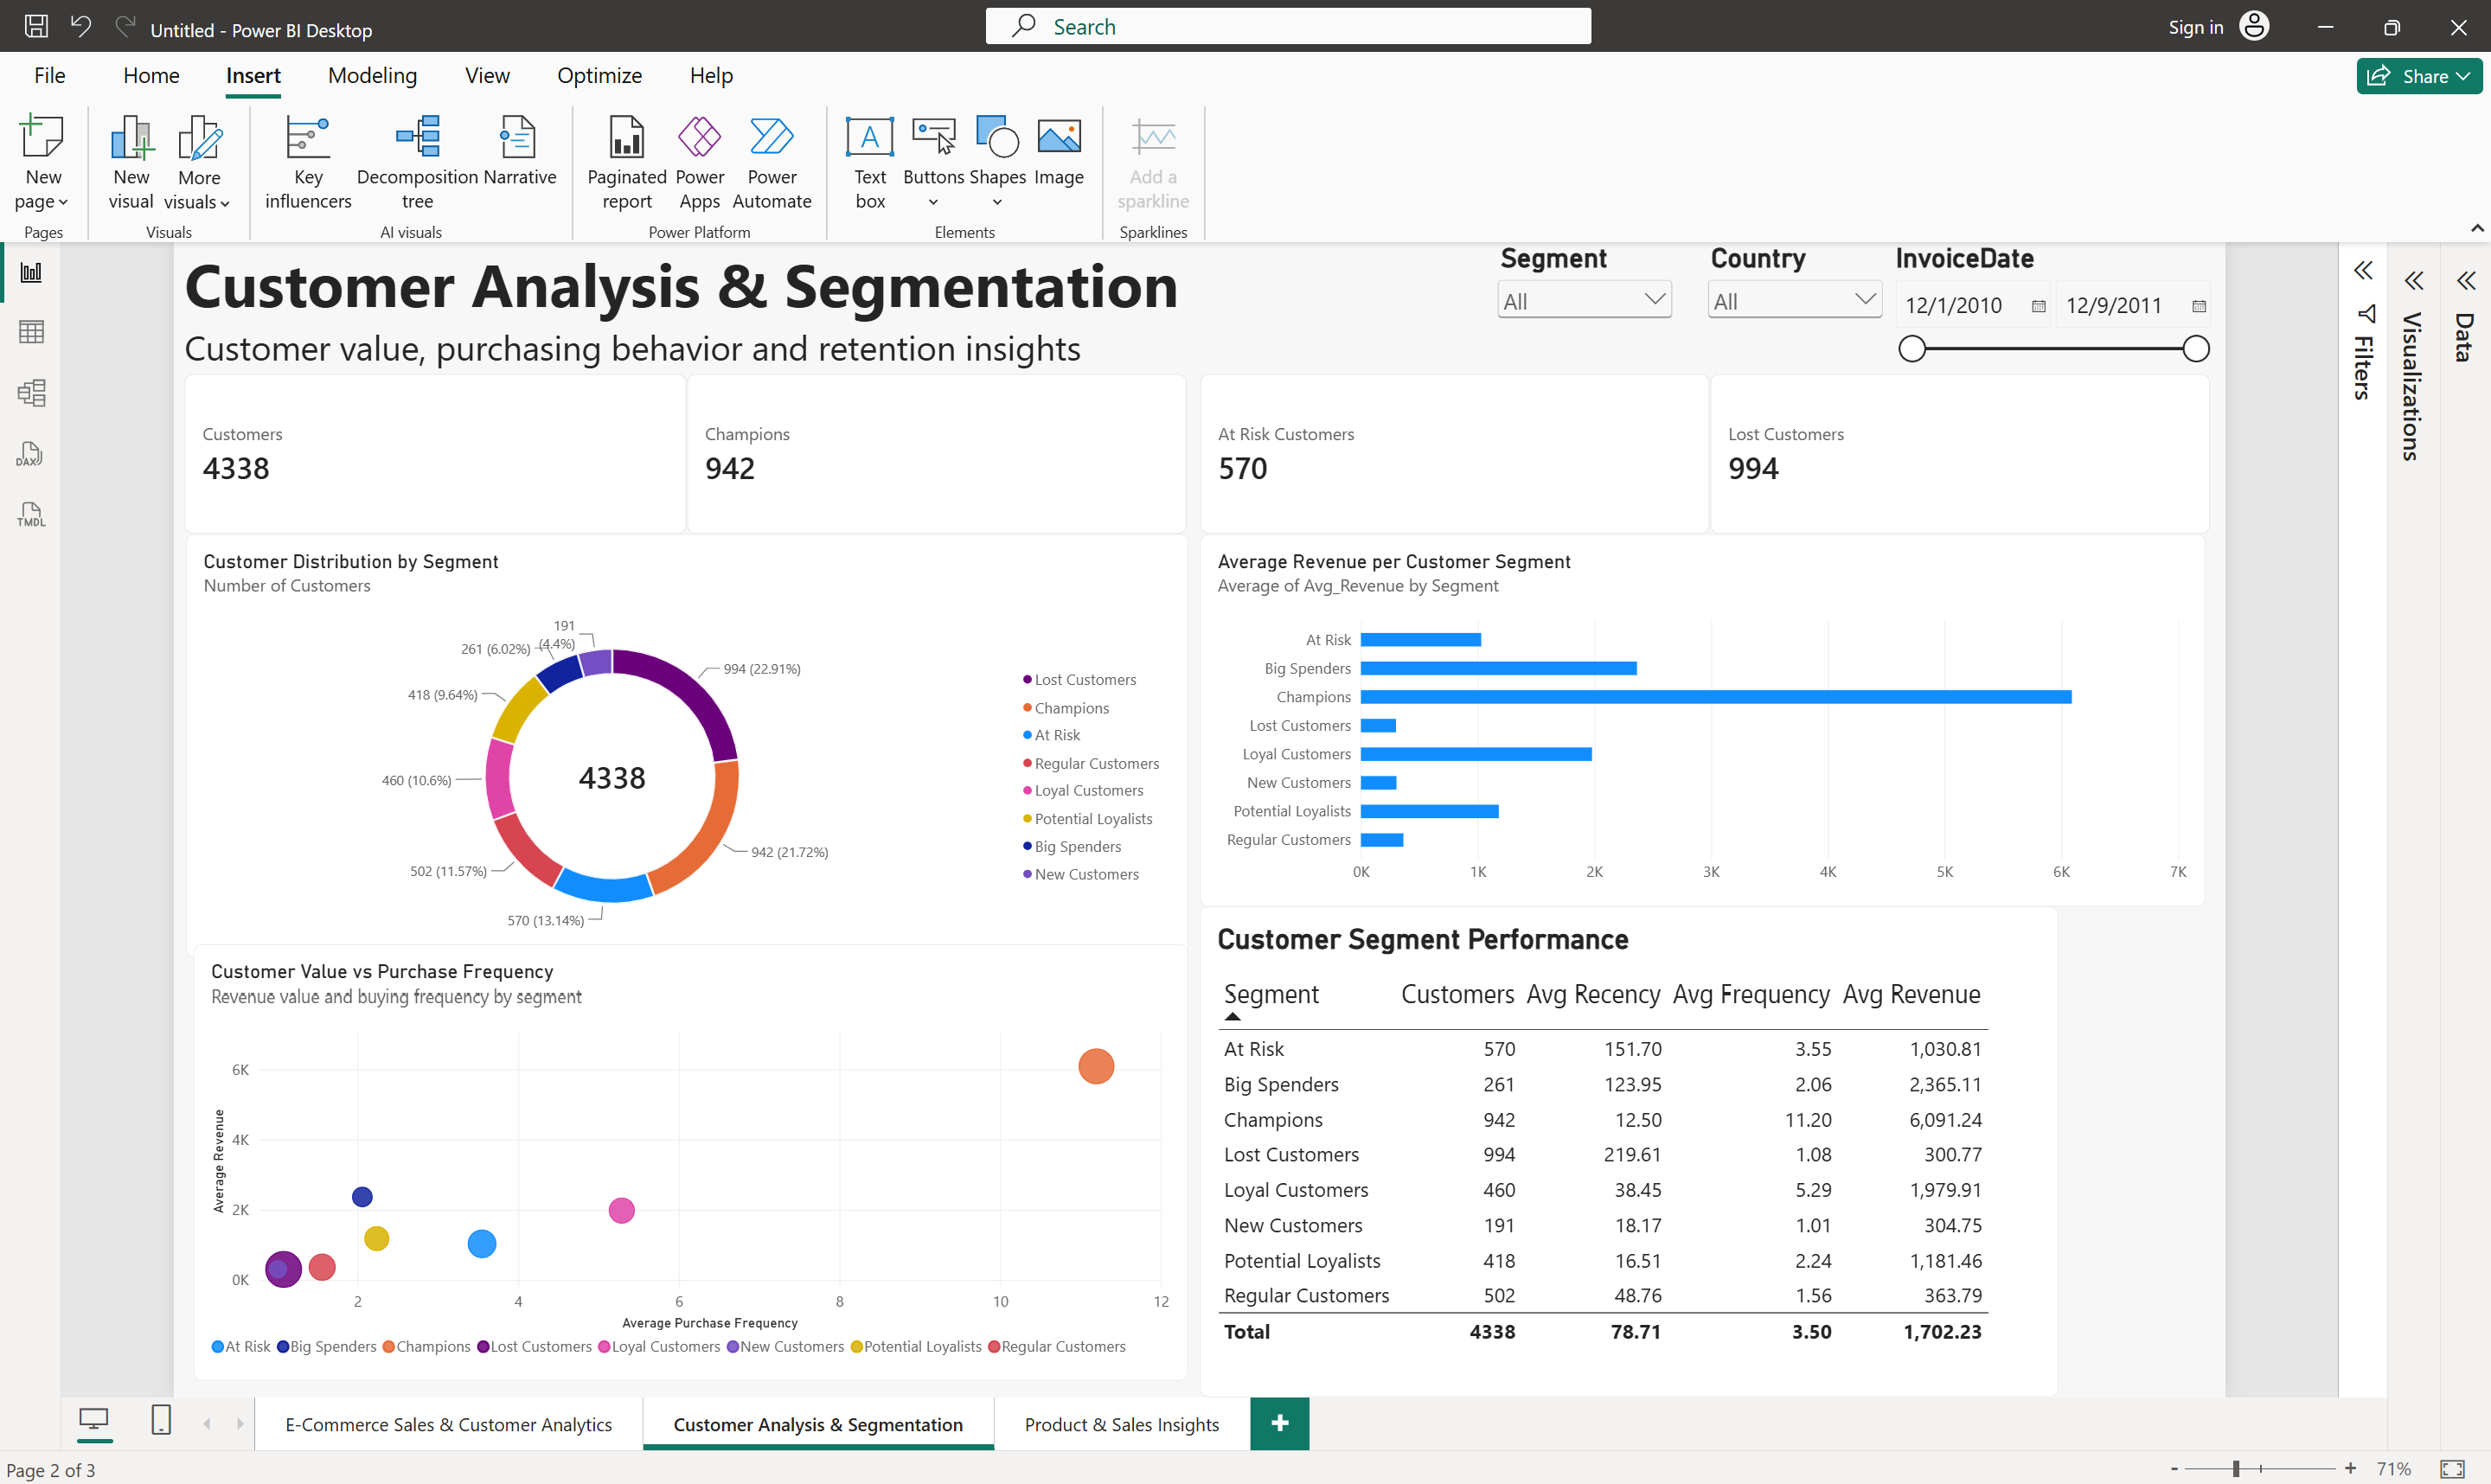

The page's visual inventory and layout, read from the dashboard file:
{"tool":"powerbi","page":{"name":"Customer Analysis & Segmentation","canvas":[1920,1080],"ordinal":1},"visuals":[{"type":"textbox","box":[9.9,0,1106.1,75.9],"z":0},{"type":"textbox","box":[9.9,75.9,861.8,47.9],"z":1000},{"type":"cardVisual","fields":{"Data":["Sum(Customer_Segments.Customers)"]},"box":[9.9,123.8,470.5,150.2],"z":2000},{"type":"cardVisual","fields":{"Data":["Customer_Segments.Champions"]},"box":[480.4,123.8,468.9,150.2],"z":3000},{"type":"cardVisual","fields":{"Data":["Customer_Segments.At Risk Customers"]},"box":[960.8,123.8,477.1,150.2],"z":4000},{"type":"cardVisual","fields":{"Data":["Customer_Segments.Lost Customers"]},"box":[1437.9,123.8,468.9,150.2],"z":5000},{"type":"donutChart","title":"Customer Distribution by Segment","fields":{"Category":["Customer_Segments.Segment"],"Y":["Sum(Customer_Segments.Customers)"]},"box":[11.3,273.5,938.1,396.8],"z":6000},{"type":"clusteredBarChart","title":"Average Revenue per Customer Segment","fields":{"Category":["Customer_Segments.Segment"],"Y":["Avg(Customer_Segments.Avg_Revenue)"]},"box":[960.8,273.5,940.9,348.6],"z":7000},{"type":"tableEx","title":"Customer Segment Performance","fields":{"Values":["Customer_Segments.Segment","Sum(Customer_Segments.Customers)","Avg(Customer_Segments.Avg_Recency)","Avg(Customer_Segments.Avg_Frequency)","Avg(Customer_Segments.Avg_Revenue)"]},"box":[960.8,622.1,803.5,457.7],"z":8000},{"type":"slicer","fields":{"Values":["sales_cleaned.Country"]},"box":[1431.2,22.7,173.3,75.9],"z":9000},{"type":"slicer","fields":{"Values":["sales_cleaned.InvoiceDate"]},"box":[1614,11.3,305.4,226.2],"z":10000},{"type":"scatterChart","title":"Customer Value vs Purchase Frequency","fields":{"X":["Sum(Customer_Segments.Avg_Frequency)"],"Y":["Sum(Customer_Segments.Avg_Revenue)"],"Series":["Customer_Segments.Segment"],"Size":["Sum(Customer_Segments.Customers)"]},"box":[18.4,657.5,931,406.7],"z":11000},{"type":"slicer","fields":{"Values":["Customer_Segments.Segment"]},"box":[1237.1,22.7,173.3,90.8],"z":12000}]}

Visuals, with their boxes on the page's 1920x1080 design canvas (x1, y1, x2, y2). These are canvas units, not pixel positions in the 2491x1484 screenshot, which may show the page scaled, cropped or inside an application window:
textbox: [10,0,1116,76]
textbox: [10,76,872,124]
cardVisual - Sum(Customer_Segments.Customers): [10,124,480,274]
cardVisual - Customer_Segments.Champions: [480,124,949,274]
cardVisual - Customer_Segments.At Risk Customers: [961,124,1438,274]
cardVisual - Customer_Segments.Lost Customers: [1438,124,1907,274]
"Customer Distribution by Segment" donutChart: [11,274,949,670]
"Average Revenue per Customer Segment" clusteredBarChart: [961,274,1902,622]
"Customer Segment Performance" tableEx: [961,622,1764,1080]
slicer - sales_cleaned.Country: [1431,23,1604,99]
slicer - sales_cleaned.InvoiceDate: [1614,11,1919,238]
"Customer Value vs Purchase Frequency" scatterChart: [18,658,949,1064]
slicer - Customer_Segments.Segment: [1237,23,1410,114]
